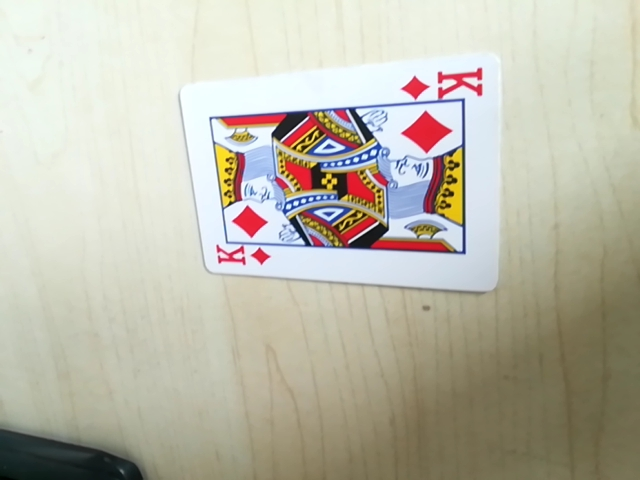fk k: (403, 61, 490, 106), (210, 242, 272, 273)
